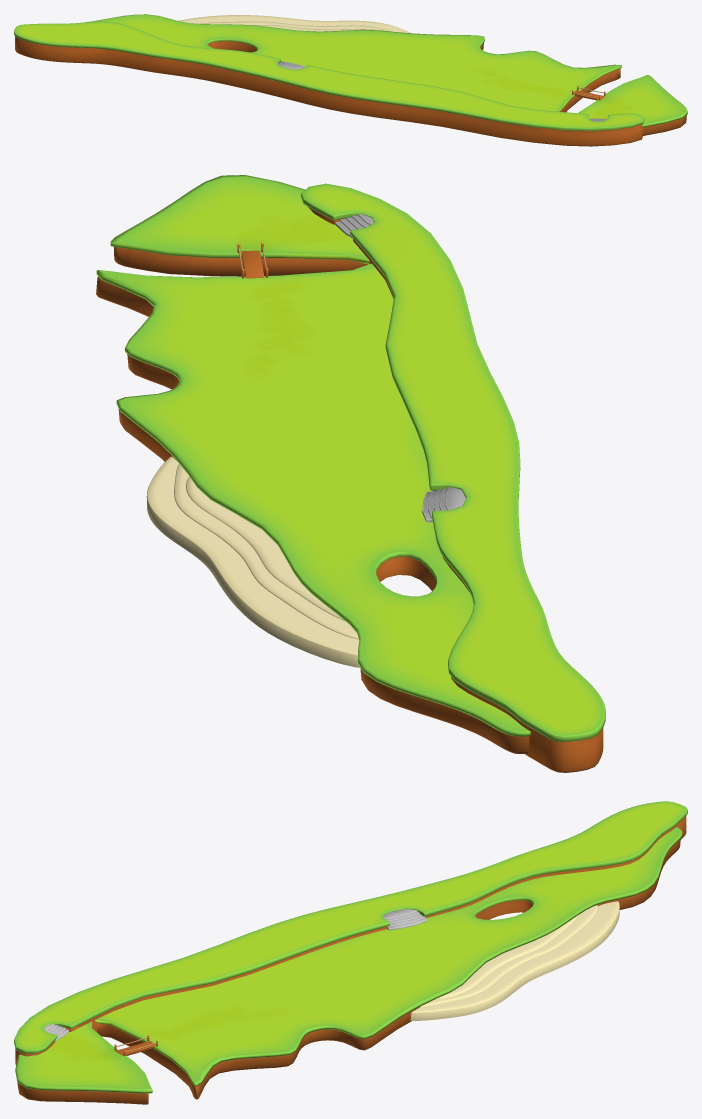
File: Pulau Sumatera 2.fbx
The picture shows the model from 3 angles, top to bottom: view 1: azimuth 30°, elevation 25°; view 2: azimuth 150°, elevation 25°; view 3: azimuth 270°, elevation 25°; orthographic projection. The views are drawn at different scales.
Parts seen in each view (by area): view 1: Cube.001, Cube.004, Cube.669, Cube.026, Cube.668, Cube.046; view 2: Cube.001, Cube.004, Cube.026, Cube.668, Cube.669, Cube.028; view 3: Cube.001, Cube.004, Cube.026, Cube.668, Cube.669, Cube.028.
Boxes of the visible parts, left/top/right/bottom form: Cube.001: left=84, top=14, right=687, bottom=127; Cube.004: left=14, top=21, right=644, bottom=131; Cube.669: left=15, top=36, right=642, bottom=146; Cube.026: left=178, top=15, right=411, bottom=33; Cube.668: left=480, top=43, right=686, bottom=135; Cube.046: left=572, top=85, right=605, bottom=100; Cube.001: left=96, top=175, right=530, bottom=736; Cube.004: left=301, top=183, right=605, bottom=741; Cube.026: left=146, top=456, right=360, bottom=667; Cube.668: left=96, top=247, right=529, bottom=753; Cube.669: left=308, top=207, right=603, bottom=772; Cube.028: left=422, top=486, right=465, bottom=522; Cube.001: left=15, top=827, right=682, bottom=1093; Cube.004: left=14, top=801, right=687, bottom=1053; Cube.026: left=410, top=901, right=619, bottom=1020; Cube.668: left=17, top=839, right=680, bottom=1104; Cube.669: left=15, top=816, right=686, bottom=1065; Cube.028: left=383, top=909, right=427, bottom=930.
Bounding box in the file's own units: 119 × 5.01 × 120.
